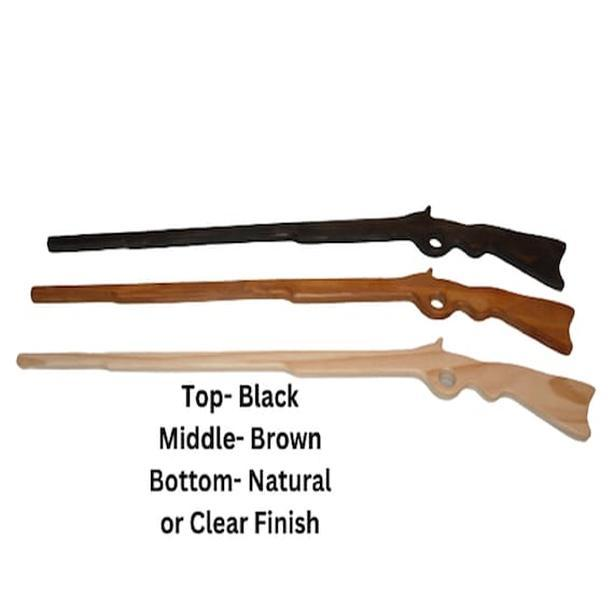Firearm: (25, 201, 600, 448)
